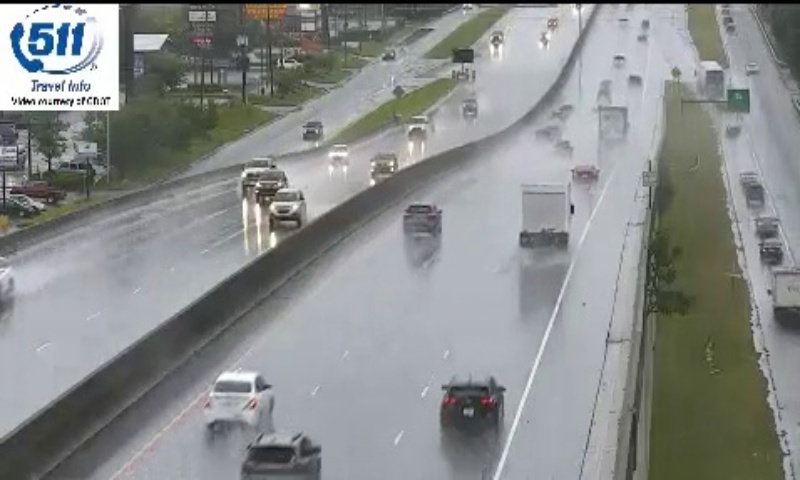car: (204, 371, 274, 426), (241, 434, 321, 480), (441, 379, 503, 432), (404, 201, 441, 232)
small-truck: (517, 184, 570, 249)
